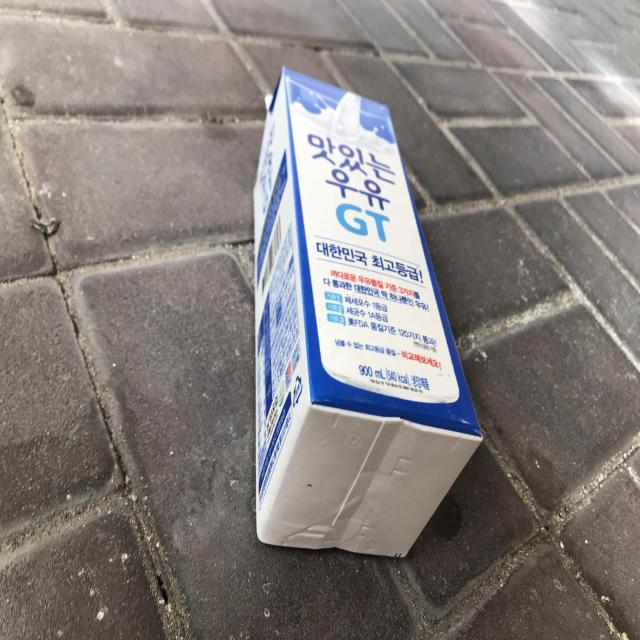paperpack: (254, 67, 482, 558)
